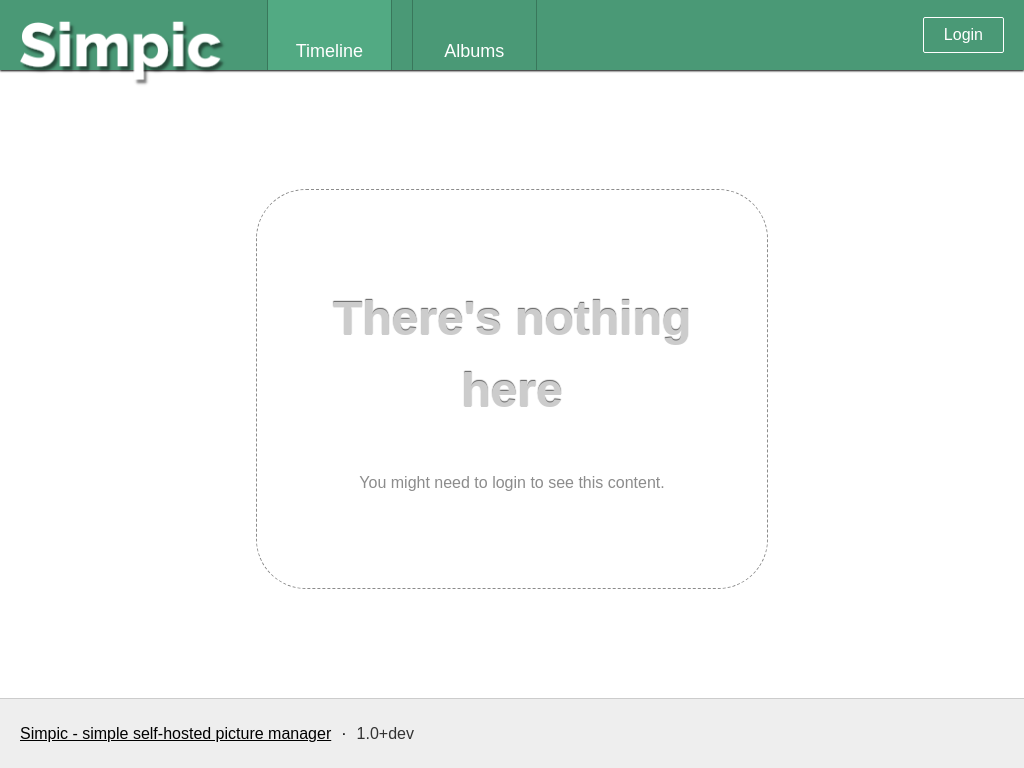
Test: Login test › Shows alert when logging in succeeds
This screenshot has width=1024, height=768.
Click the button "Login": click(964, 35) [923, 17, 1004, 53]
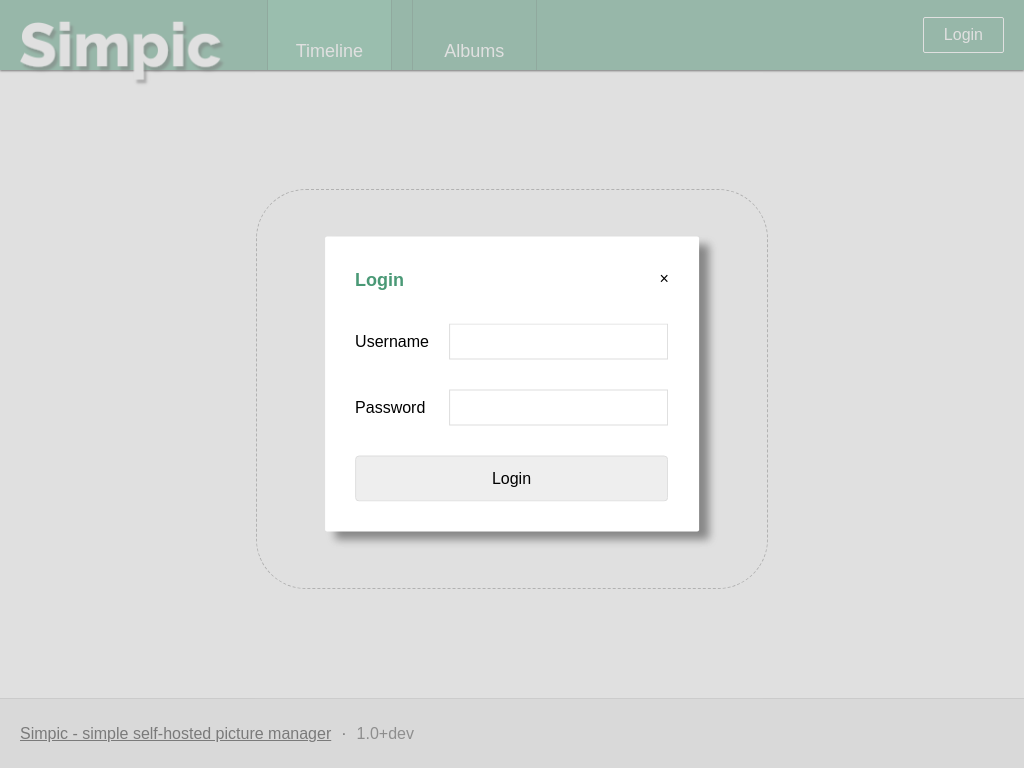
In the field with id "username": (559, 342) [449, 324, 668, 360], type "tester"
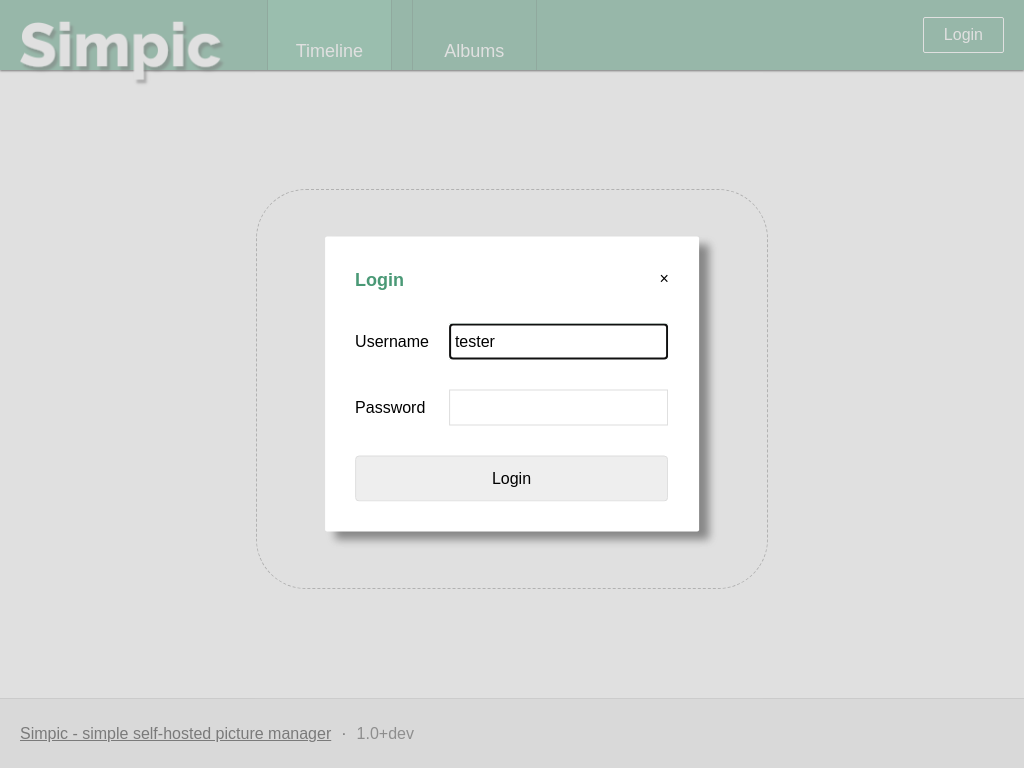
In the password field labelled "Password": (559, 408) [449, 390, 668, 426], type "testing123"
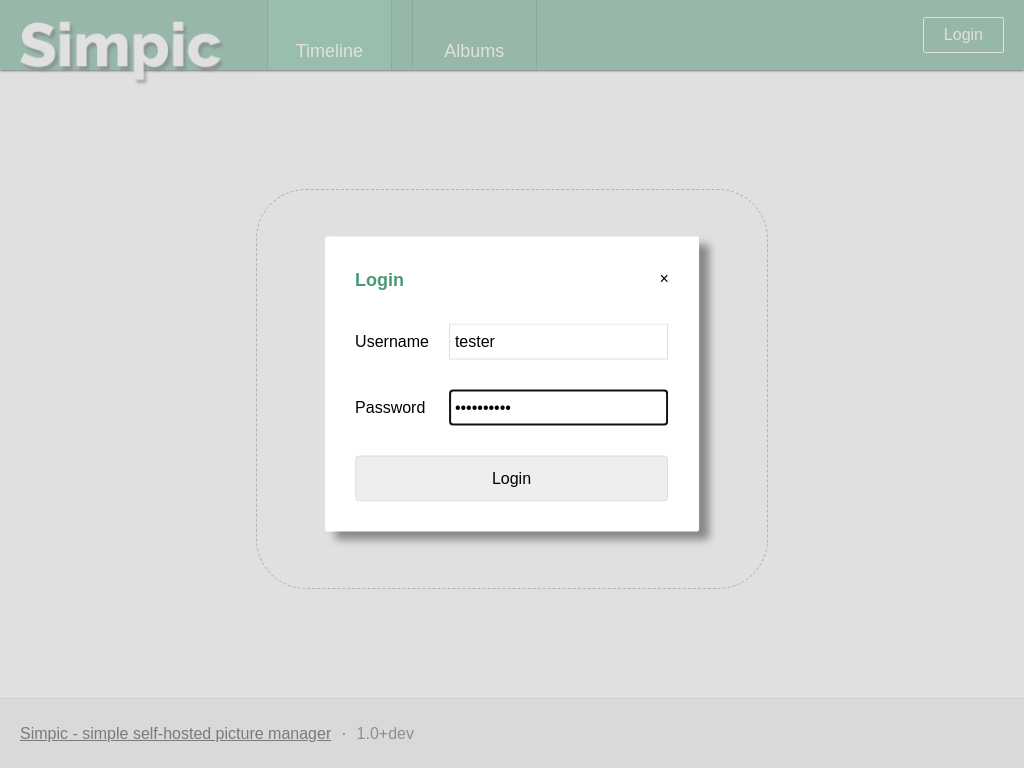
Click the button "Login": click(512, 479) [355, 456, 668, 502]
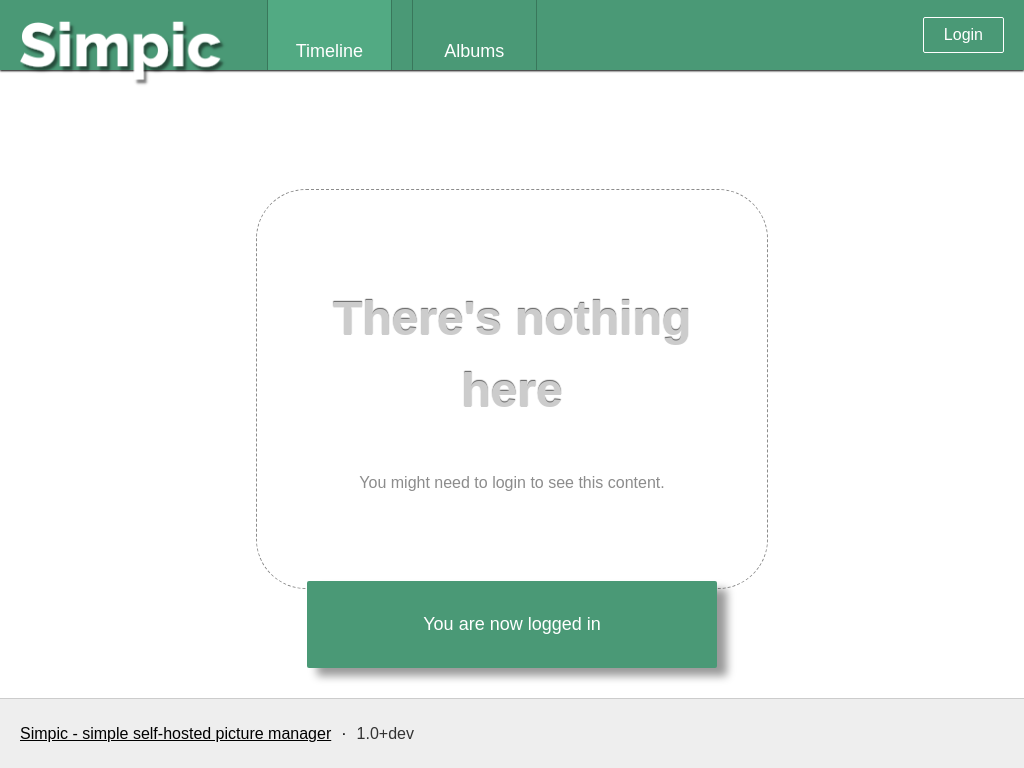
Expected: the text "You are now logged in" is shown, [307, 581, 717, 668]
